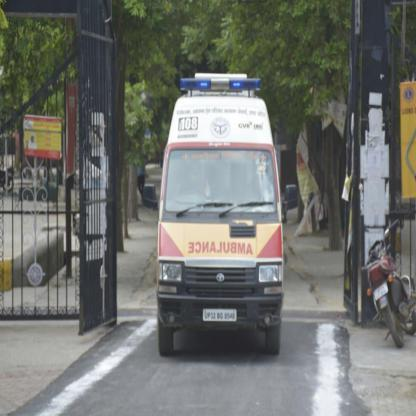Ambulance: (183, 238, 263, 260)
